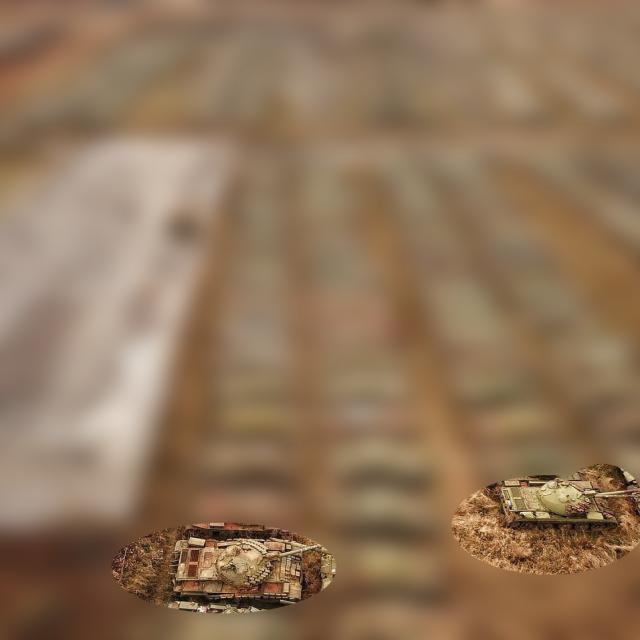tank: (169, 528, 331, 613), (484, 471, 639, 540)
